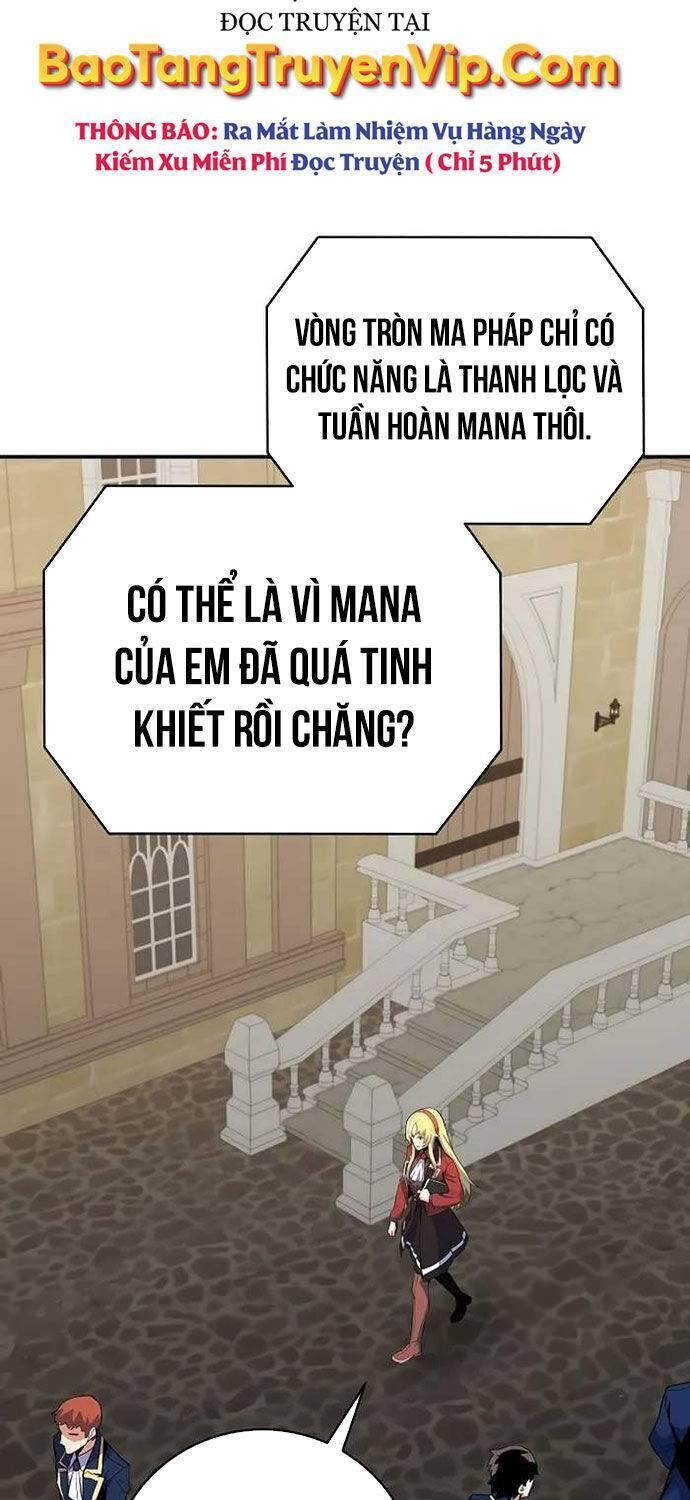quangcao: (36, 0, 628, 186)
